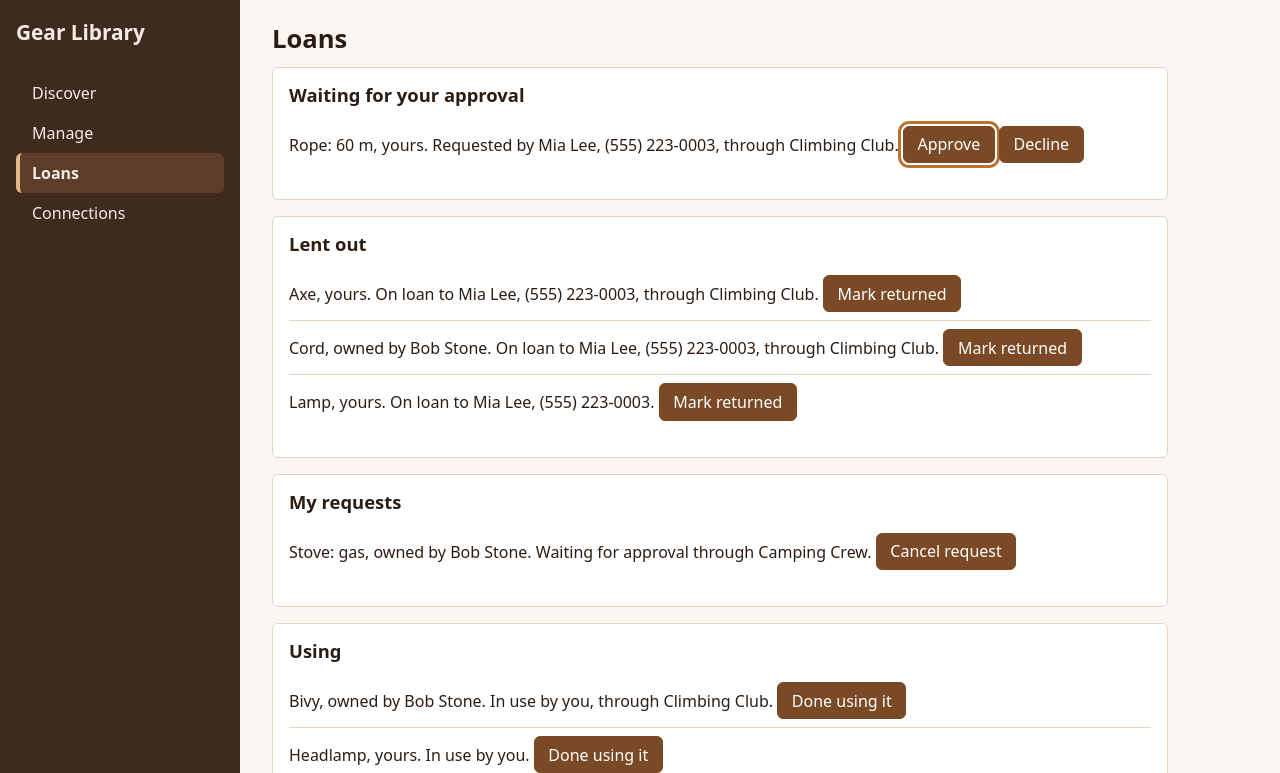
Scenario: focus after an action › leaves focus on the button when the item stays where it was
Check: the heading "Loans" is shown, box [272,21,347,56]
Click the button with aria-label "Approve: Rope".
click(949, 144)  # box [903,126,995,163]
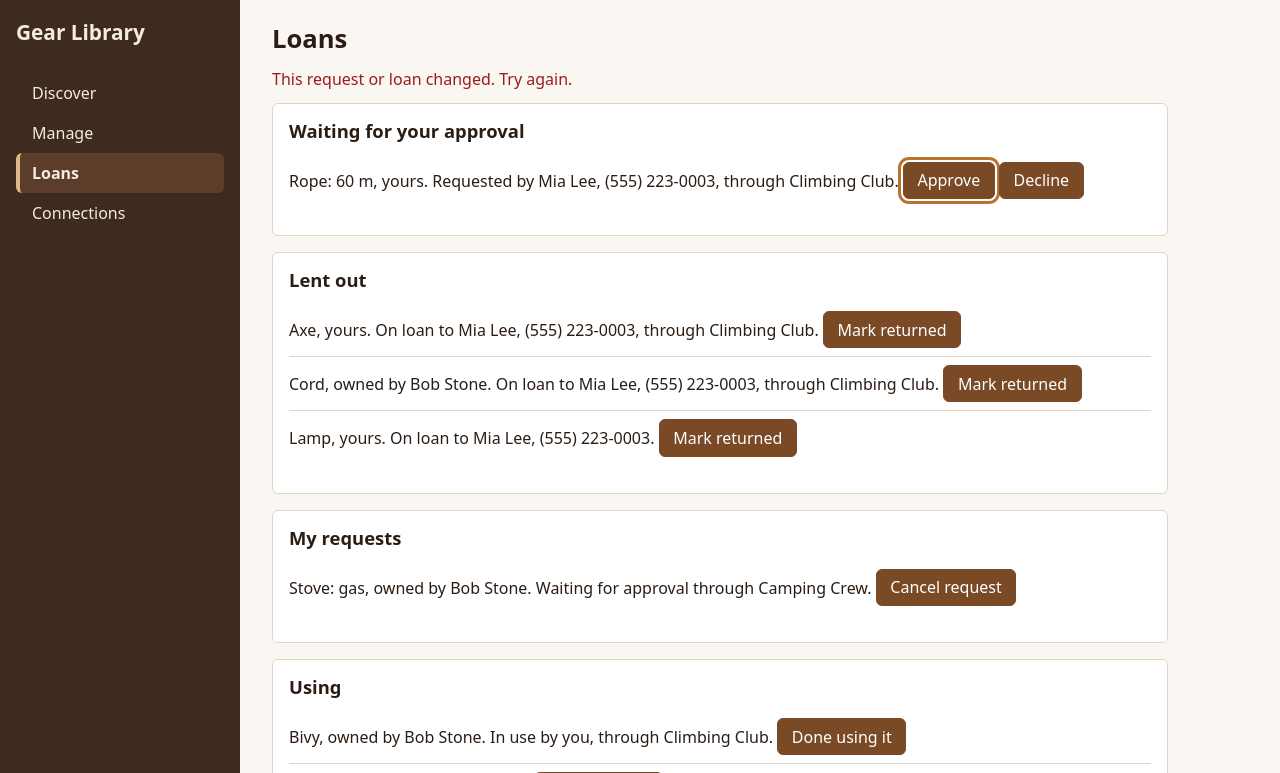
Check: the message "This request or loan changed. Try again." is shown, box [272,68,572,90]
